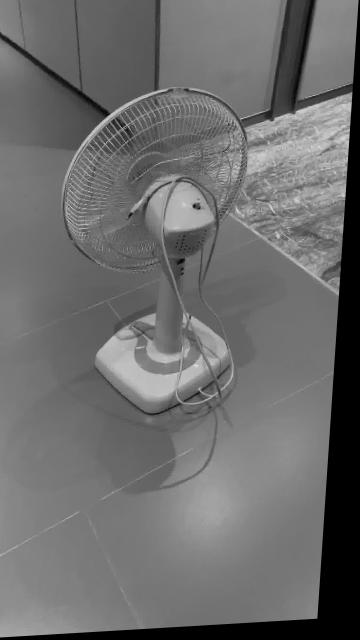Fan: (64, 90, 250, 418)
